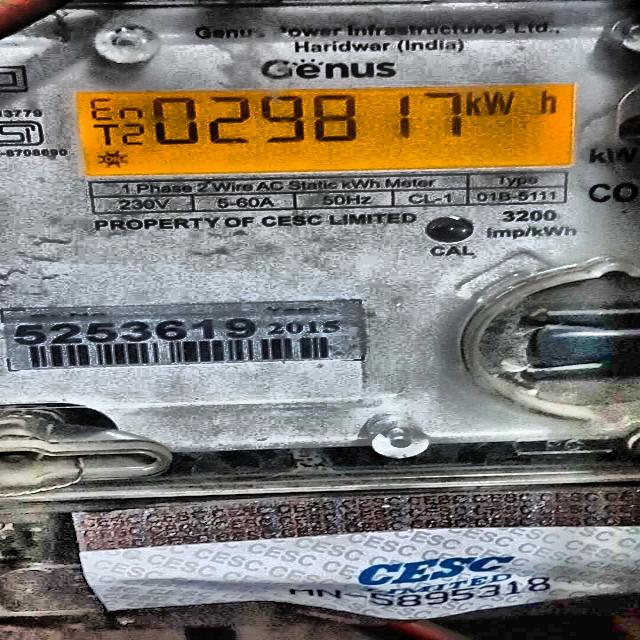Digital: (0, 0, 635, 485)
Reading: (150, 93, 463, 154)
Serial No.: (7, 319, 259, 342)
